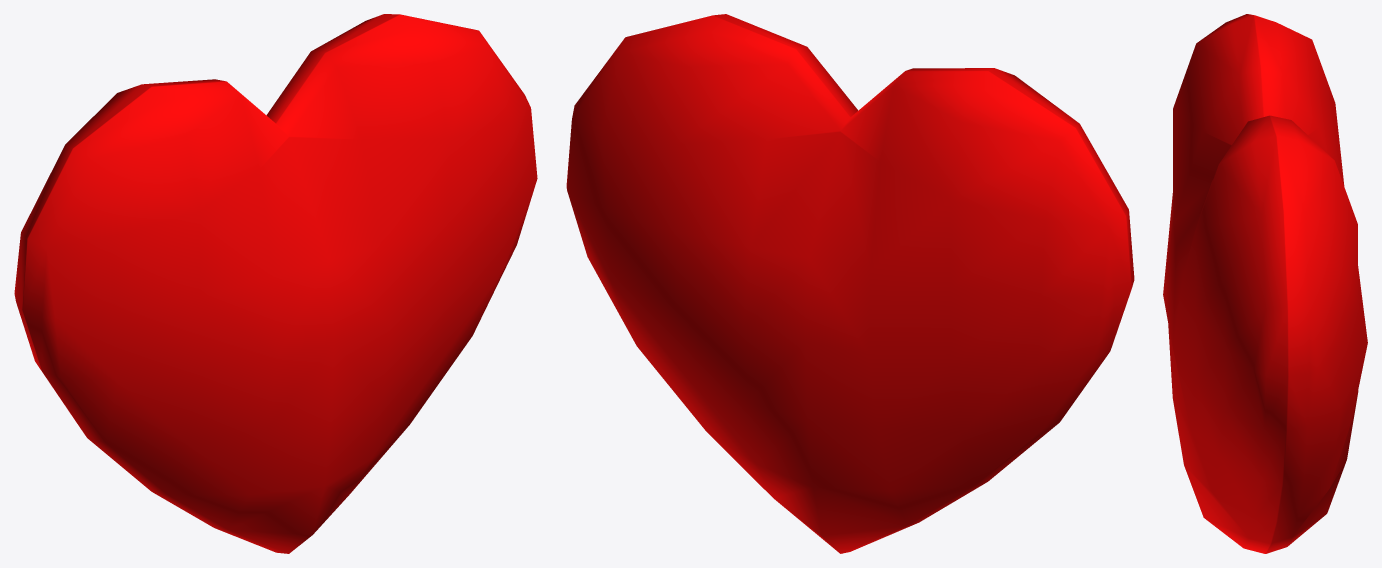
The model's file is heart_animation.fbx.
3 views of the same model, side by side, from view 1: azimuth 30°, elevation 25°; view 2: azimuth 150°, elevation 25°; view 3: azimuth 270°, elevation 25° (orthographic). The views are drawn at different scales.
Visible parts, largest first — view 1: polySurface1; view 2: polySurface1; view 3: polySurface1.
Boxes of the visible parts, x1,y1,x2,y2 form: polySurface1: (14, 14, 537, 553); polySurface1: (566, 14, 1134, 553); polySurface1: (1163, 14, 1367, 553).
Bounding box in the file's own units: 0.0408 × 0.0368 × 0.0143.
